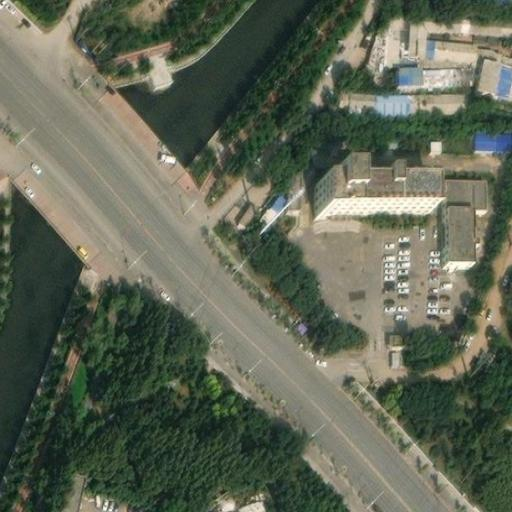building: (312, 168, 421, 216), (250, 186, 292, 234), (441, 209, 471, 263), (423, 143, 504, 162), (441, 185, 485, 217), (478, 51, 512, 92), (424, 33, 475, 59), (361, 28, 389, 71), (416, 87, 467, 108), (473, 122, 512, 148), (422, 62, 474, 81), (228, 198, 257, 229), (373, 88, 417, 108), (57, 477, 82, 512), (409, 15, 428, 48), (346, 85, 373, 107), (236, 496, 268, 512), (399, 61, 422, 81), (406, 20, 418, 47)
